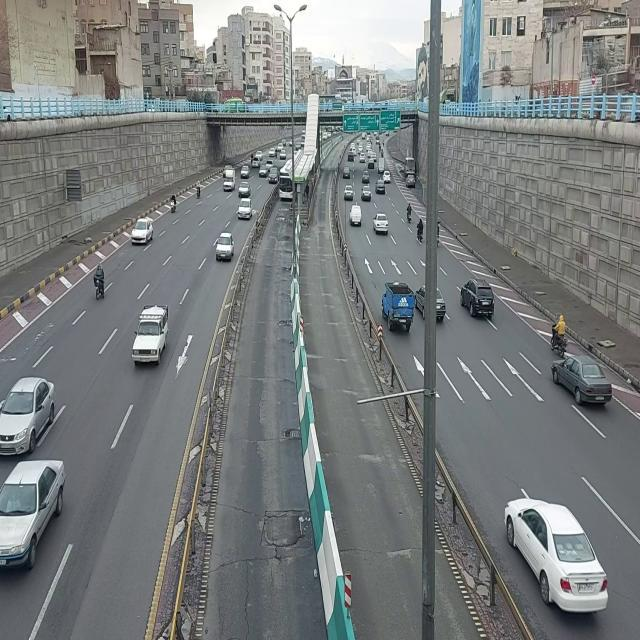Bus: (279, 159, 293, 203)
Car: (502, 496, 611, 616), (1, 452, 69, 578), (1, 374, 57, 455), (555, 350, 616, 411), (460, 278, 496, 322), (214, 230, 236, 264), (132, 216, 155, 246), (237, 196, 253, 220), (373, 214, 389, 235), (344, 184, 354, 202), (361, 185, 371, 203)
Motorcycle: (550, 308, 571, 356), (92, 261, 108, 305), (416, 217, 425, 246), (169, 191, 179, 214), (407, 201, 413, 225), (195, 180, 202, 200)
Pickup: (131, 297, 169, 372), (381, 278, 417, 338), (349, 204, 364, 227), (223, 169, 235, 195)
